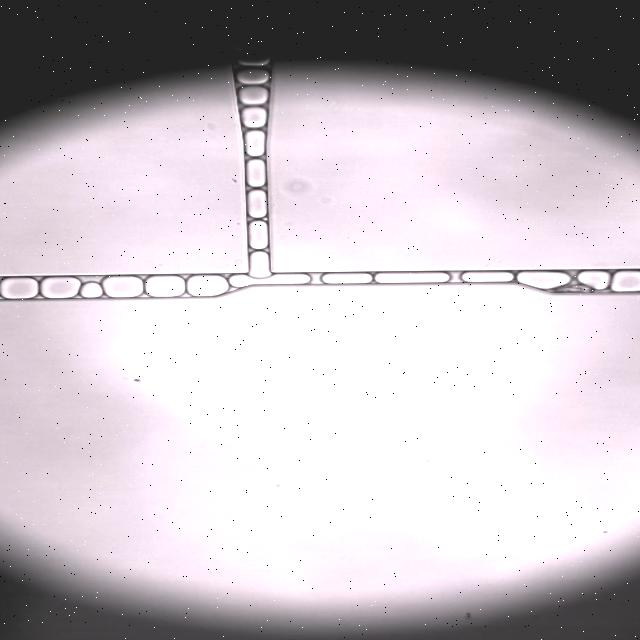L: (237, 86, 269, 106), (248, 221, 269, 249), (577, 271, 609, 289), (462, 271, 513, 282), (247, 190, 267, 218), (241, 107, 267, 128), (249, 252, 270, 278), (322, 273, 371, 284), (247, 159, 266, 187), (244, 131, 265, 156), (237, 69, 269, 84), (237, 58, 269, 66)
S: (231, 274, 310, 287), (518, 272, 570, 290), (187, 276, 228, 297), (40, 277, 80, 298), (145, 276, 184, 297), (103, 276, 142, 297), (375, 272, 448, 283), (0, 278, 37, 298), (611, 271, 640, 292), (81, 281, 102, 298)
